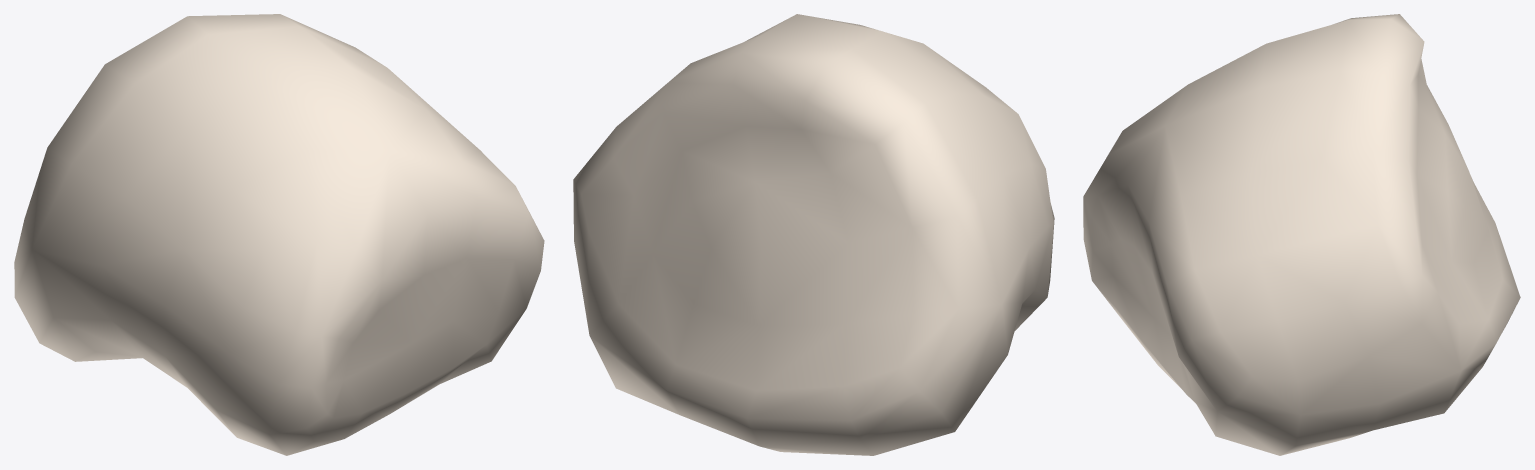
Rendered from left_toe_5_middle.glb.
The picture shows the model from 3 angles, left to right: view 1: azimuth 30°, elevation 25°; view 2: azimuth 150°, elevation 25°; view 3: azimuth 270°, elevation 25°; orthographic projection. The views are drawn at different scales.
Visible parts, largest first — view 1: Middle phalanx of fifth finger of foot.r; view 2: Middle phalanx of fifth finger of foot.r; view 3: Middle phalanx of fifth finger of foot.r.
Part boxes in pixels (bbox=[...]): Middle phalanx of fifth finger of foot.r: bbox=[14, 14, 544, 455]; Middle phalanx of fifth finger of foot.r: bbox=[573, 14, 1054, 455]; Middle phalanx of fifth finger of foot.r: bbox=[1083, 14, 1520, 455].
Bounding box in the file's own units: 0.0081 × 0.00646 × 0.00751.
